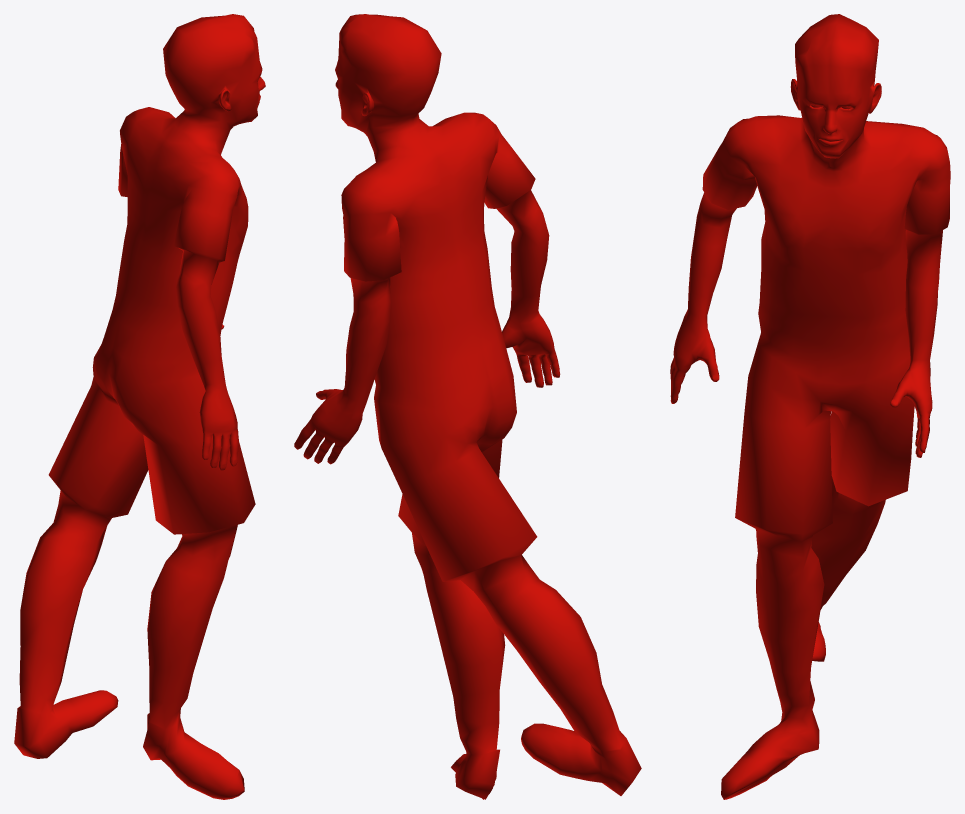
File: player_000043.obj
3 views of the same model, side by side, from view 1: azimuth 30°, elevation 25°; view 2: azimuth 150°, elevation 25°; view 3: azimuth 270°, elevation 25° (orthographic). The views are drawn at different scales.
Parts seen in each view (by area): view 1: soccerplayer.002_mesh.003; view 2: soccerplayer.002_mesh.003; view 3: soccerplayer.002_mesh.003.
Boxes of the visible parts, x1,y1,x2,y2 form: soccerplayer.002_mesh.003: (14,14,265,799); soccerplayer.002_mesh.003: (294,14,641,799); soccerplayer.002_mesh.003: (670,14,950,799).
Bounding box in the file's own units: 1.12 × 3 × 0.9616.
